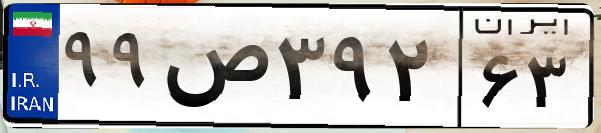2: (385, 28, 445, 110)
3: (270, 28, 330, 110), (525, 38, 570, 115)
6: (475, 38, 525, 113)
9: (330, 28, 385, 110), (57, 26, 110, 100), (110, 28, 158, 98)
ص: (158, 20, 270, 120)
